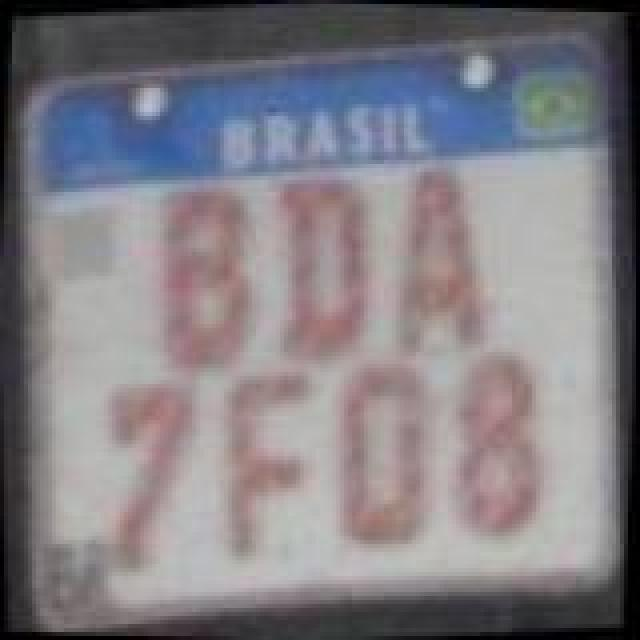7: (90, 374, 214, 574)
8: (432, 344, 556, 540)
A: (376, 156, 500, 364)
B: (140, 174, 272, 378)
D: (256, 168, 388, 376), (320, 352, 444, 548)
F: (204, 362, 328, 562)
